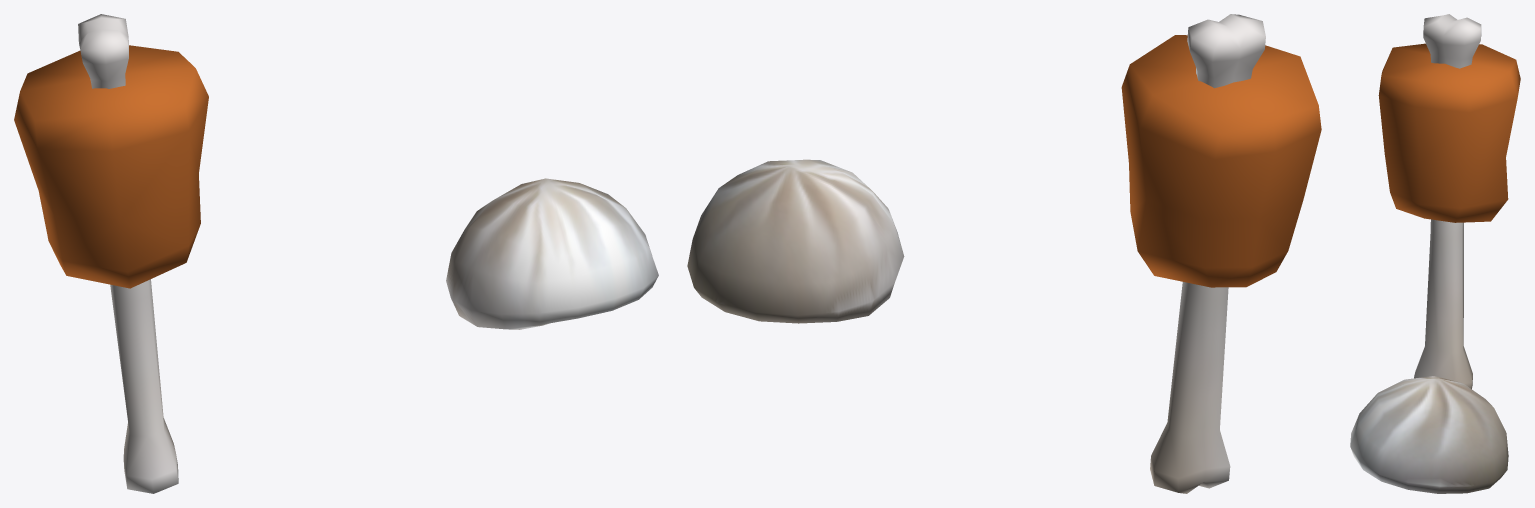
Rendered from AF_M_Prop_26.FBX.
3 renders of one model, left to right at view 1: azimuth 30°, elevation 25°; view 2: azimuth 150°, elevation 25°; view 3: azimuth 270°, elevation 25°, orthographic. The views are drawn at different scales.
Parts seen in each view (by area): view 1: AF_M_Prop_26; view 2: AF_M_Prop_26; view 3: AF_M_Prop_26.
Boxes of the visible parts, left/top/right/bottom form: AF_M_Prop_26: left=14, top=14, right=658, bottom=493; AF_M_Prop_26: left=687, top=14, right=1321, bottom=493; AF_M_Prop_26: left=1350, top=14, right=1520, bottom=493.
Size of the model in its own units: 448 by 332 by 142.
Materials: 1 (1 with a texture image).
